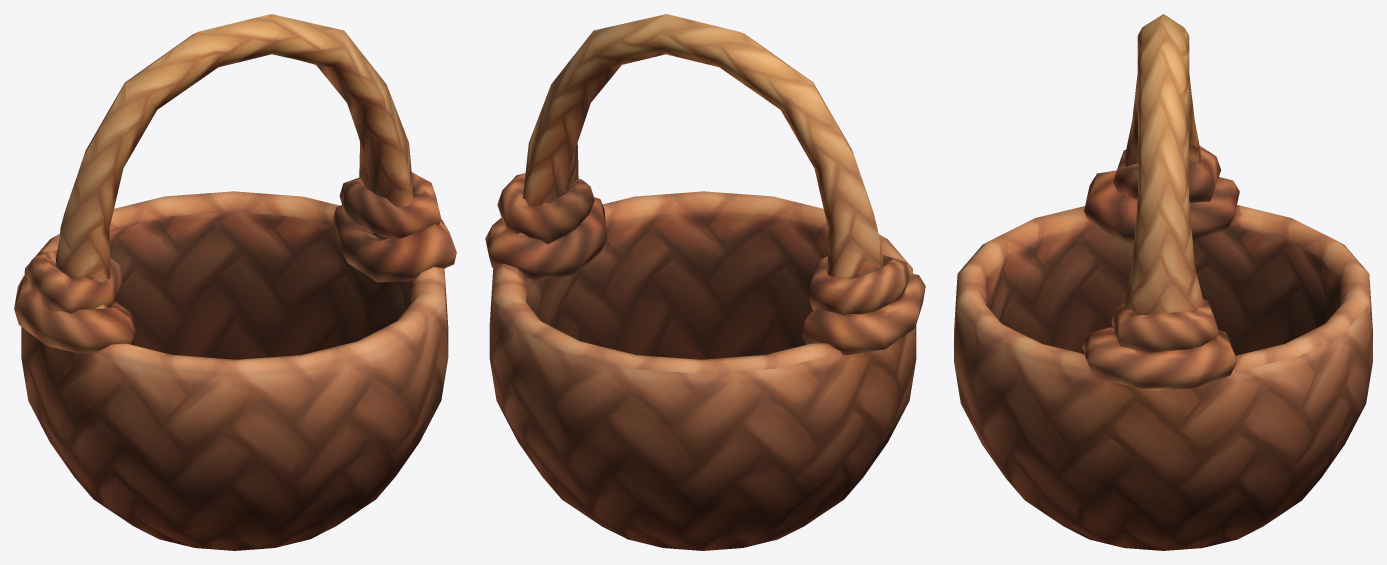
Rendered from SE_Basket_01.fbx.
The picture shows the model from 3 angles, left to right: view 1: azimuth 30°, elevation 25°; view 2: azimuth 150°, elevation 25°; view 3: azimuth 270°, elevation 25°; orthographic projection.
Parts seen in each view (by area): view 1: SE_Basket_01; view 2: SE_Basket_01; view 3: SE_Basket_01.
Part boxes in pixels (<box>): SE_Basket_01: <box>14,14,456,550</box>; SE_Basket_01: <box>485,14,925,550</box>; SE_Basket_01: <box>954,14,1372,550</box>.
Bounding box in the file's own units: 2.58 × 2.91 × 2.35.
